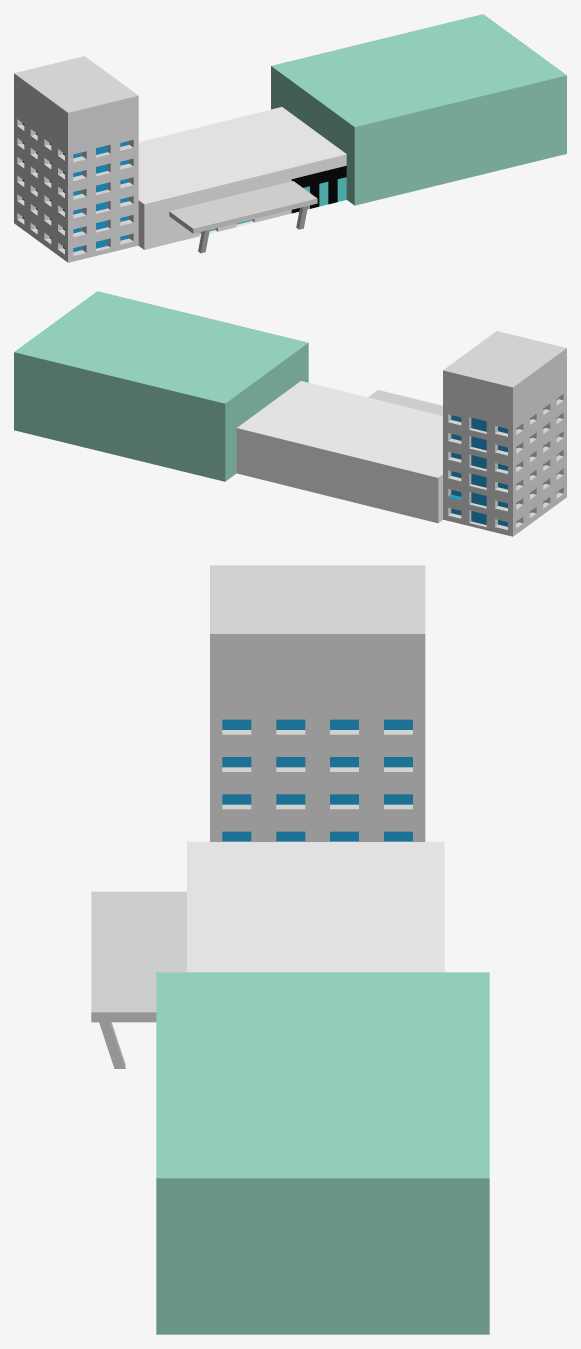
File: PaseoSP.fbx
3 renders of one model, top to bottom at view 1: azimuth 30°, elevation 25°; view 2: azimuth 150°, elevation 25°; view 3: azimuth 270°, elevation 25°, orthographic. The views are drawn at different scales.
Visible parts, largest first — view 1: Cube, Cube.005, Cube.001, Cube.002; view 2: Cube, Cube.005, Cube.001, Cube.002; view 3: Cube, Cube.005, Cube.001, Cube.002.
Boxes of the visible parts, x1,y1,x2,y2 form: Cube: (271, 14, 566, 205); Cube.005: (14, 56, 138, 262); Cube.001: (138, 107, 346, 249); Cube.002: (169, 181, 317, 233); Cube: (14, 291, 308, 481); Cube.005: (443, 331, 566, 536); Cube.001: (236, 381, 442, 523); Cube.002: (368, 390, 442, 415); Cube: (156, 972, 489, 1334); Cube.005: (210, 565, 425, 841); Cube.001: (187, 841, 444, 972); Cube.002: (91, 891, 186, 1022).
Size of the model in its own units: 20080 by 5967 by 7169.
